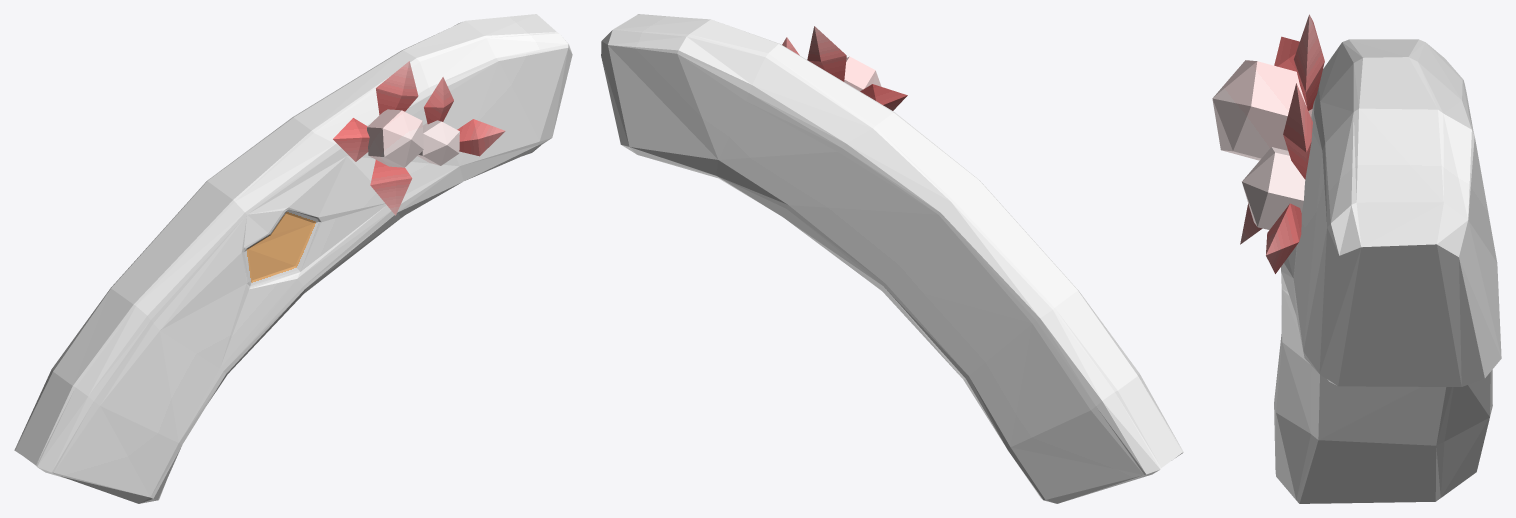
File: CharSkyKid_Prop_FlowerArch.glb
The picture shows the model from 3 angles, left to right: view 1: azimuth 30°, elevation 25°; view 2: azimuth 150°, elevation 25°; view 3: azimuth 270°, elevation 25°; orthographic projection. The views are drawn at different scales.
Parts seen in each view (by area): view 1: CharSkyKid_Prop_FlowerArch; view 2: CharSkyKid_Prop_FlowerArch; view 3: CharSkyKid_Prop_FlowerArch.
Boxes of the visible parts, bbox=[...] form: CharSkyKid_Prop_FlowerArch: bbox=[14, 14, 572, 503]; CharSkyKid_Prop_FlowerArch: bbox=[601, 14, 1183, 503]; CharSkyKid_Prop_FlowerArch: bbox=[1212, 14, 1501, 503].
Size of the model in its own units: 6.35 by 4.22 by 1.51.
Materials: 1 (1 with a texture image).
